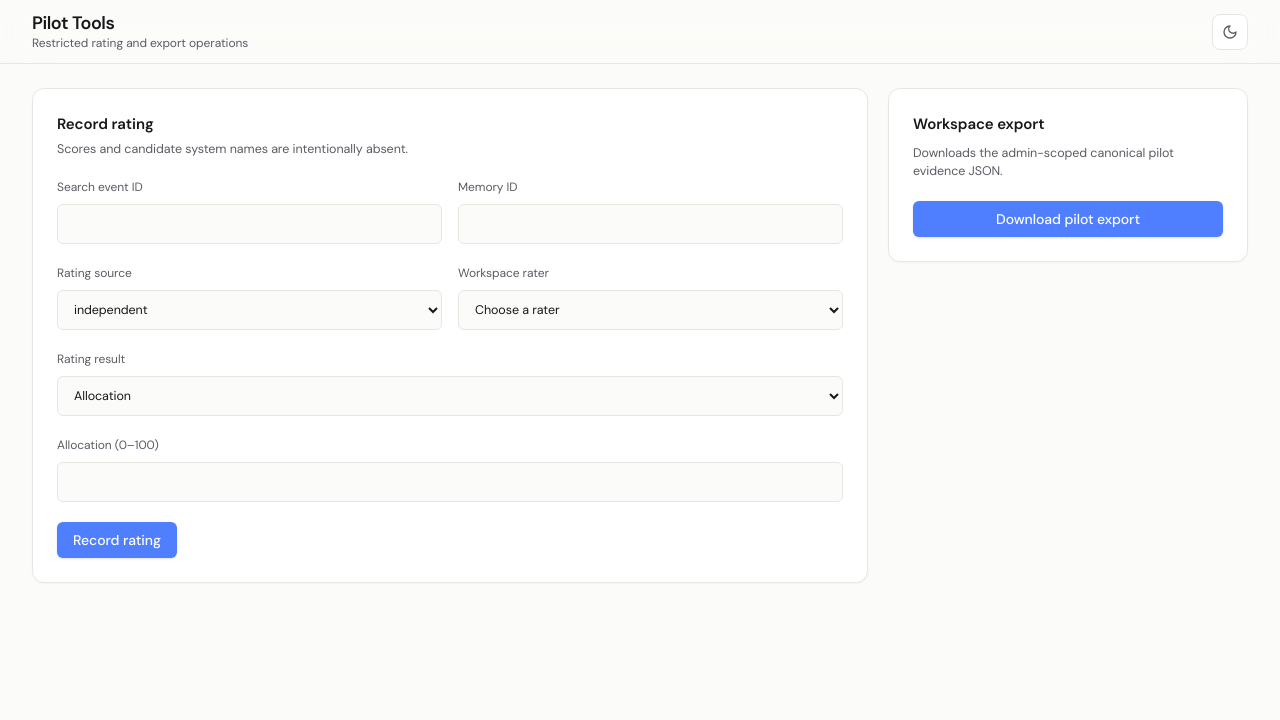
Scenario: submits an independent rating with the selected workspace rater
expect the form with test id "pilot-rating-form" is shown: met, box [32,88,868,583]
Type "33333333-3333-4333-8333-333333333333" into the field with test id "rating-search-event" at (250, 224), box [57,204,442,244]
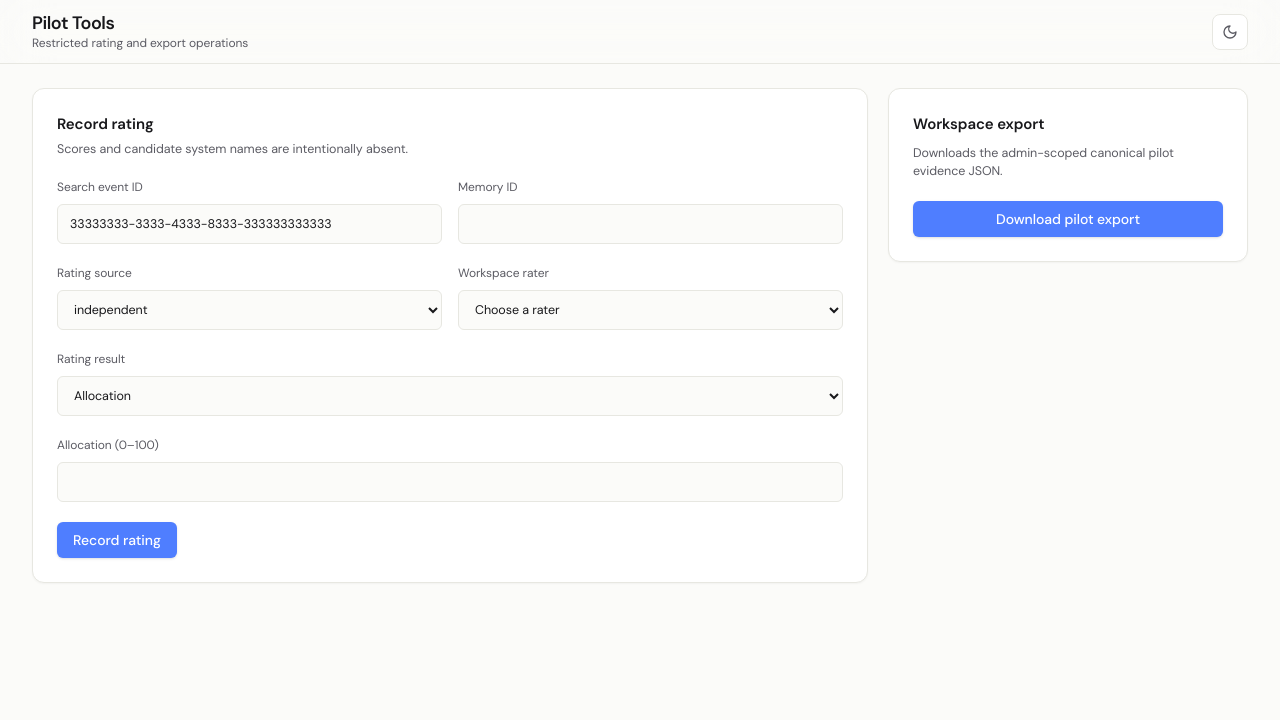
Type "44444444-4444-4444-8444-444444444444" into the field with test id "rating-memory" at (650, 224), box [458,204,843,244]
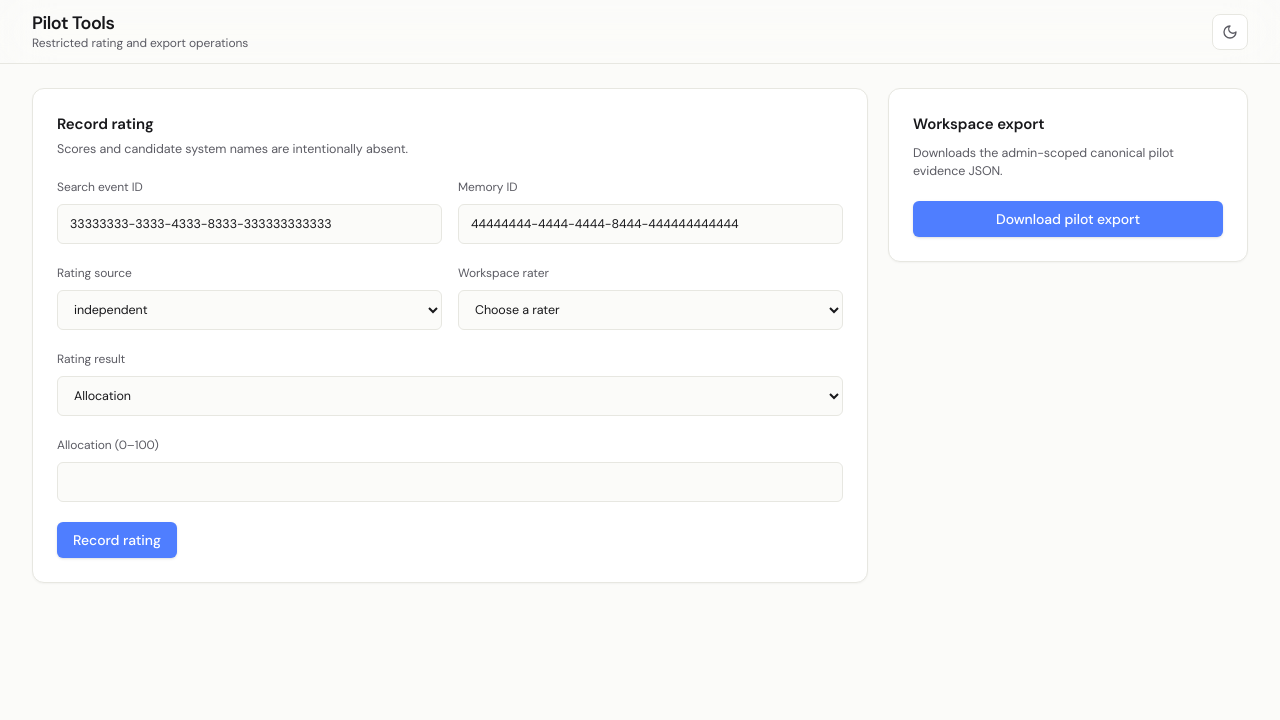
Select "Rater Two" in the dropdown with test id "rating-rater" at (650, 310), box [458,290,843,330]
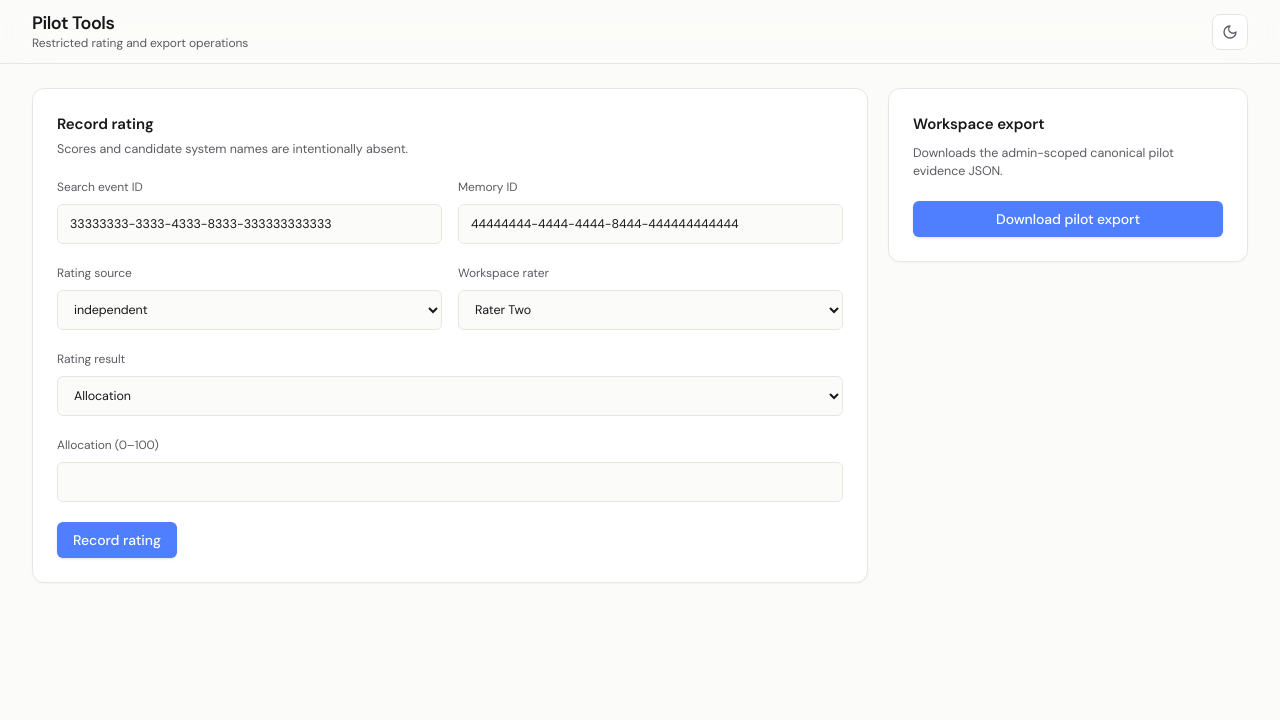
Type "35.5" into the number field with test id "rating-allocation" at (450, 482), box [57,462,843,502]
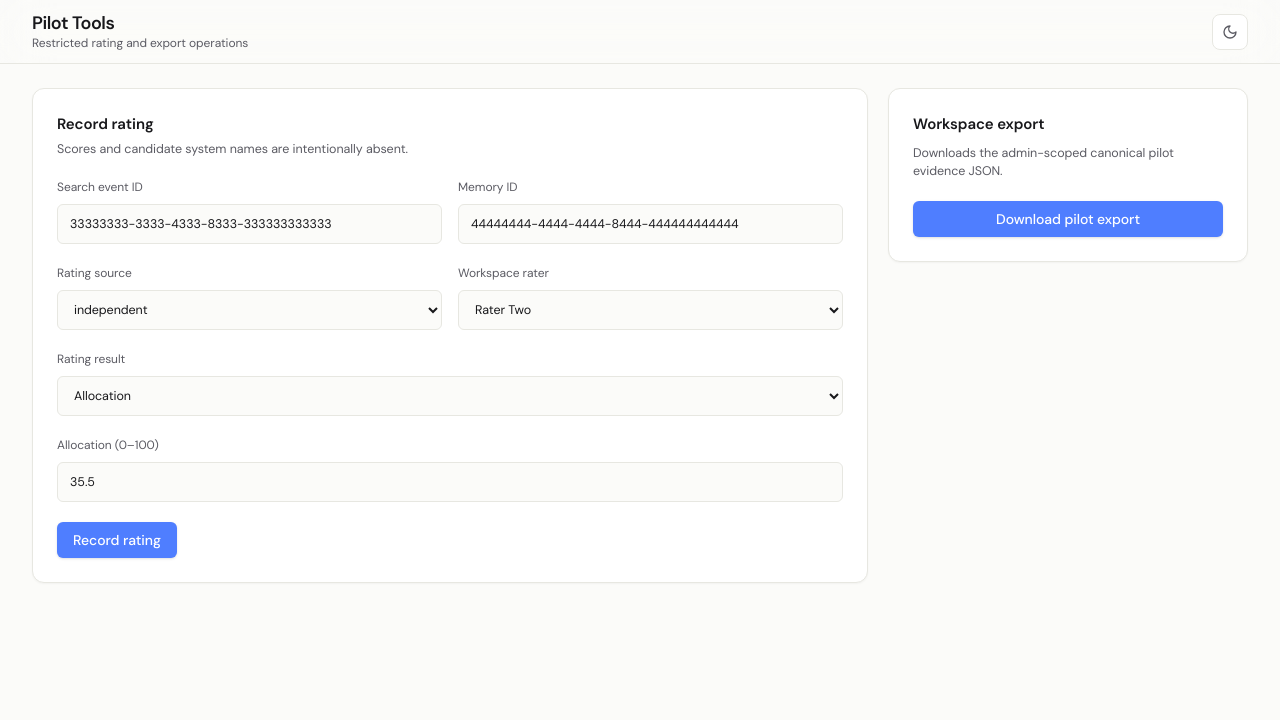
Click the button with test id "rating-submit" at (117, 540), box [57,522,177,558]
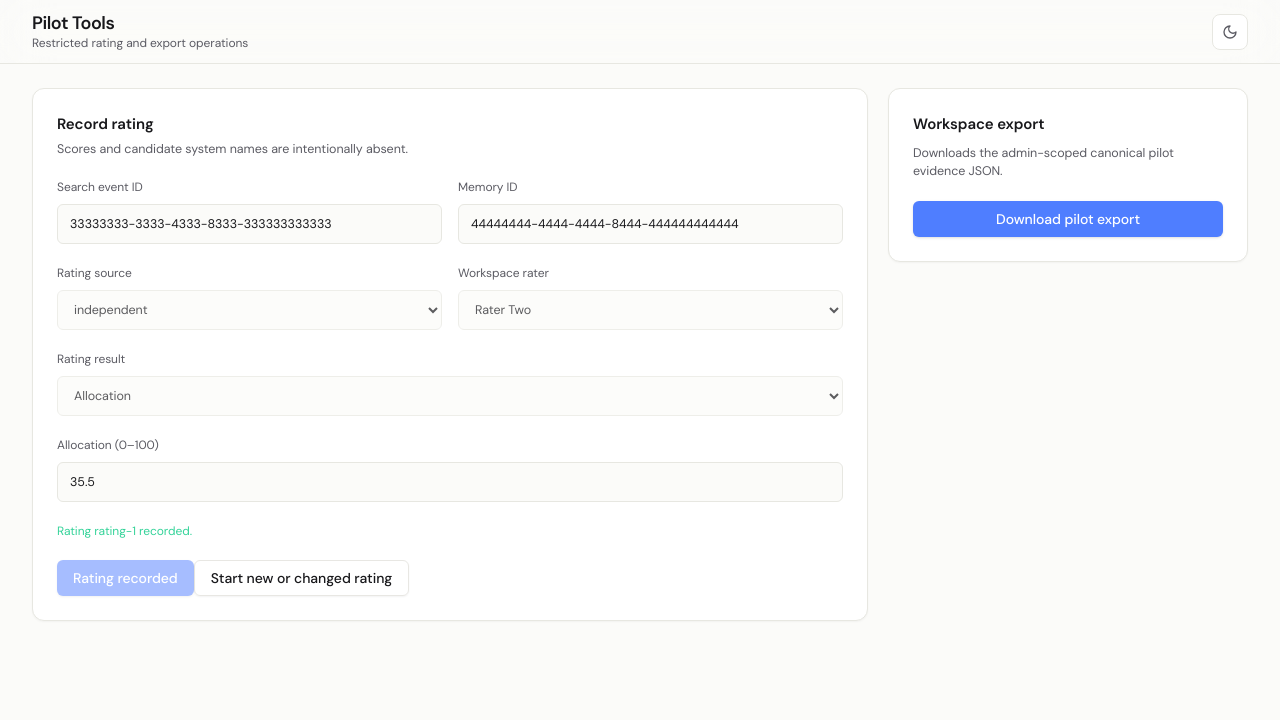
expect the text "Rating rating-1 recorded." is shown: met, box [57,523,192,539]
